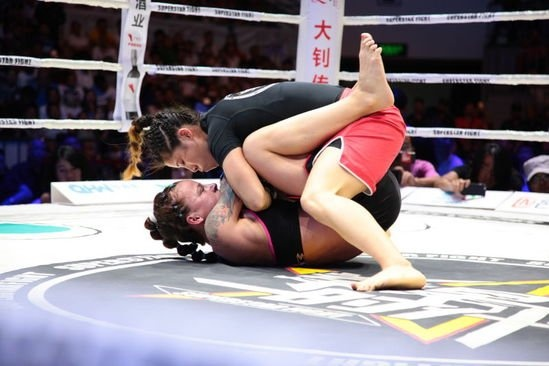falling: (130, 65, 428, 293)
